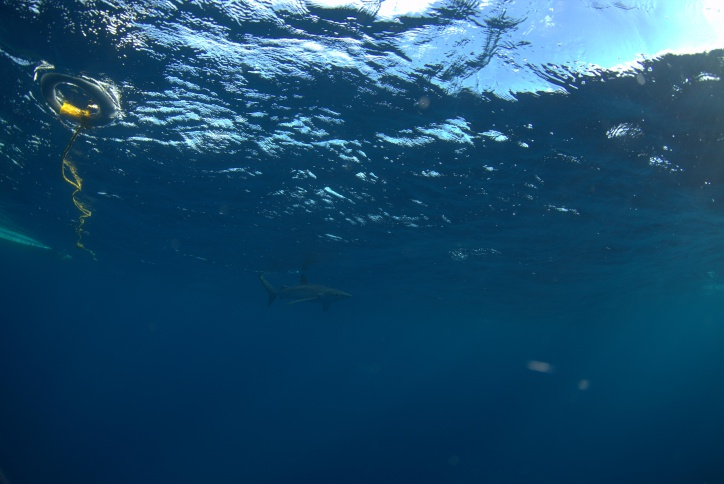Azul: (240, 253, 360, 316)
